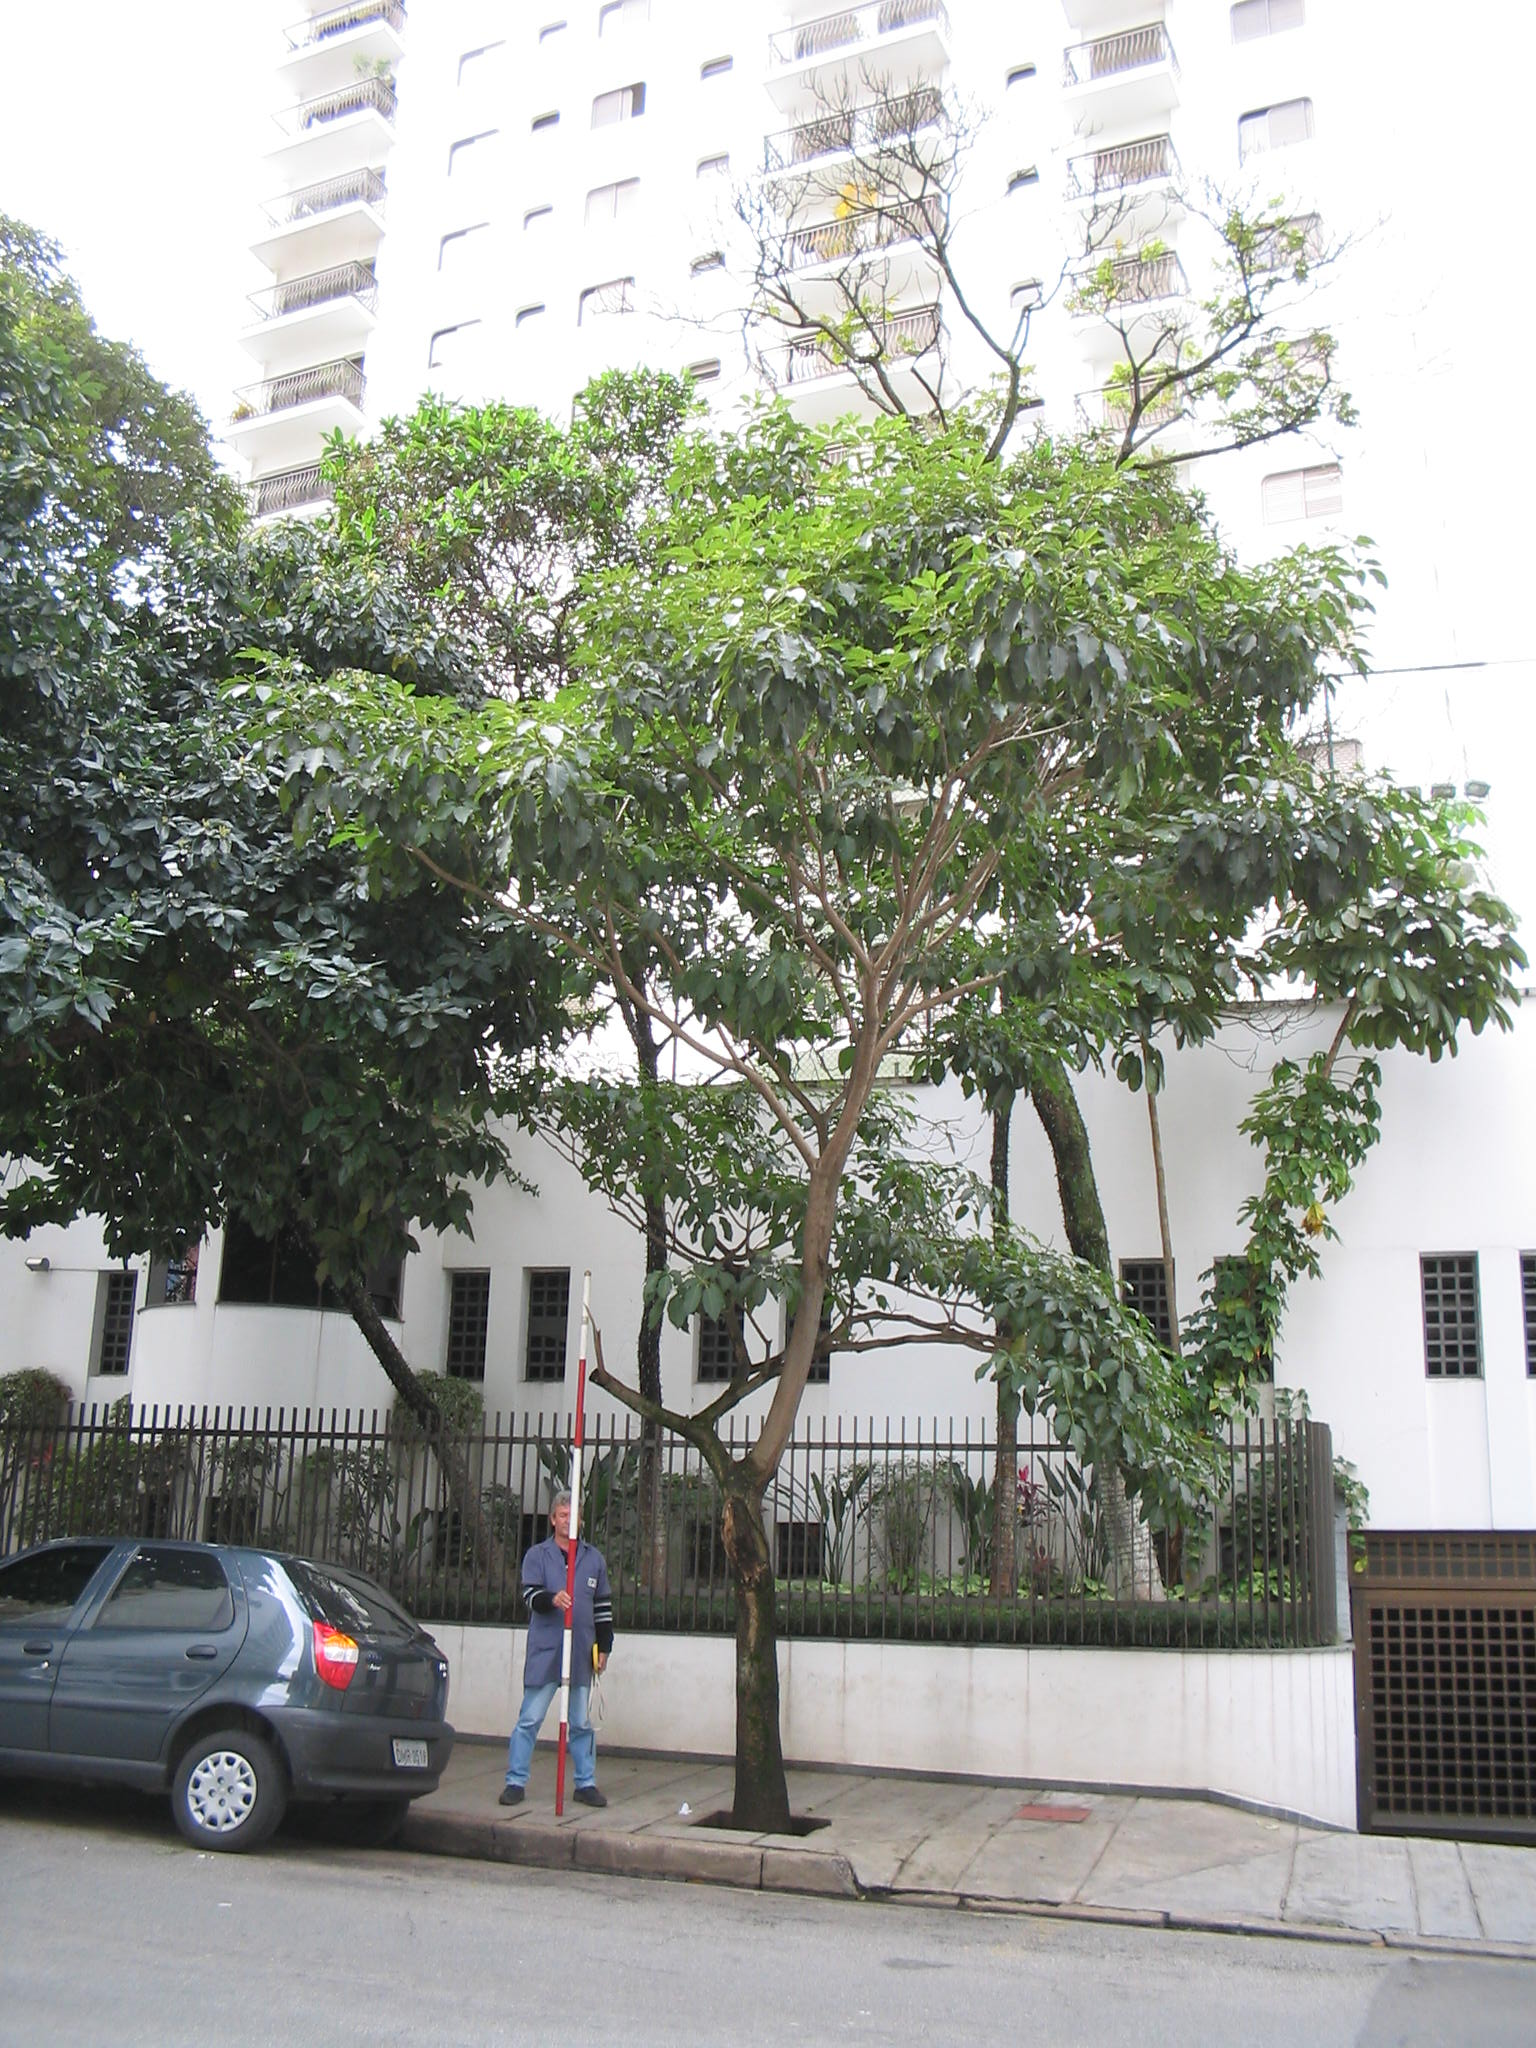crown: (265, 369, 1526, 1122)
stem: (682, 1461, 820, 1838)
stick: (544, 1272, 600, 1821)
tree: (258, 361, 1526, 1835)
